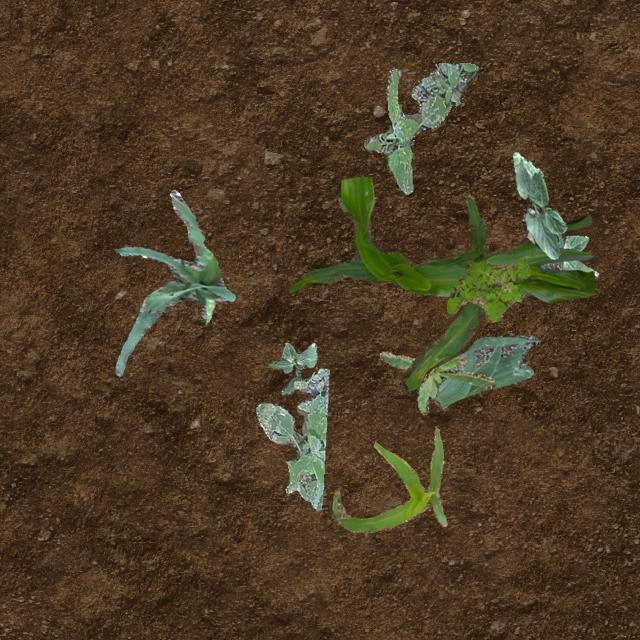crop: (288, 175, 594, 394), (114, 188, 234, 374), (332, 426, 446, 532), (429, 333, 538, 408), (512, 152, 564, 258), (540, 232, 598, 278), (266, 342, 316, 394)
weed: (362, 62, 478, 194), (254, 368, 328, 510), (378, 351, 494, 414), (446, 258, 530, 322)
